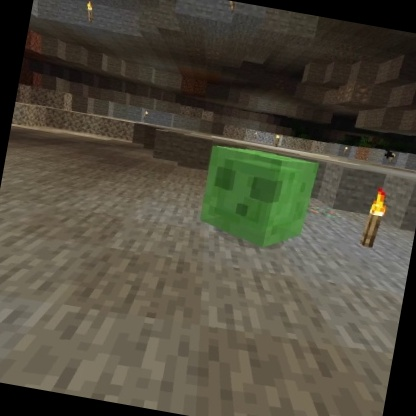slime: (189, 139, 324, 259)
